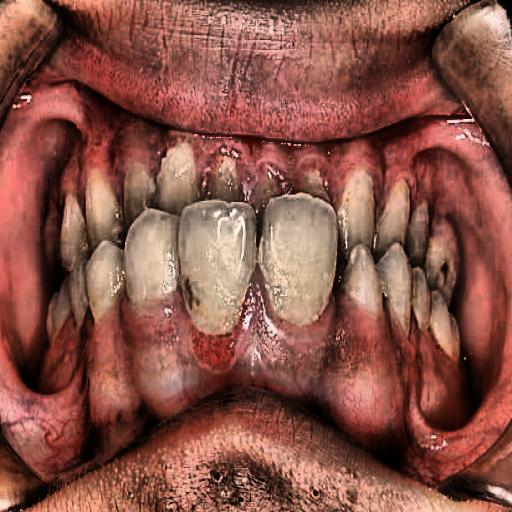Gingivitis: (76, 297, 431, 432)
